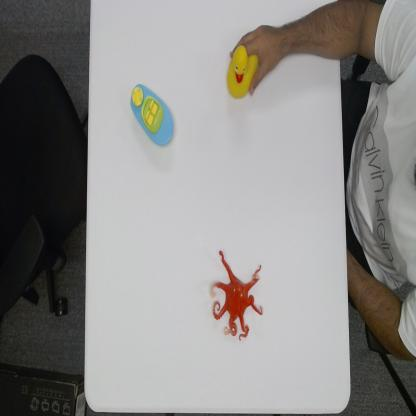Arm: (285, 0, 411, 65)
Boat: (129, 82, 174, 148)
Duck: (226, 44, 260, 99)
Hand: (230, 24, 299, 95)
Octopus: (209, 248, 265, 343)
